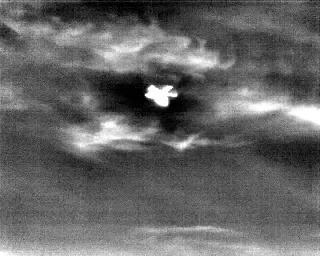HELICOPTER: (143, 80, 180, 112)
